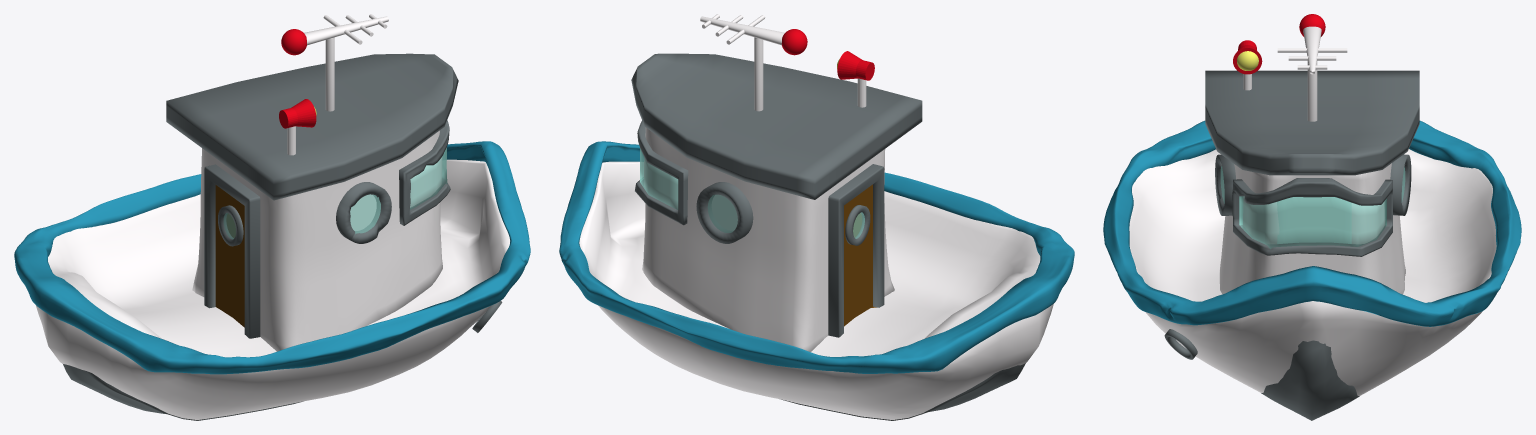
Rendered from Boat.fbx.
3 views of the same model, side by side, from view 1: azimuth 30°, elevation 25°; view 2: azimuth 150°, elevation 25°; view 3: azimuth 270°, elevation 25° (orthographic).
Visible parts, largest first — view 1: Cube, Plane.001, Cube.001, Cube.002, Cube.004, Cube.003, Plane.002, Circle.001, Cube.005, Plane, Circle.004, Cylinder.006 (+4 smaller); view 2: Cube, Plane.001, Cube.001, Cube.002, Cube.004, Cube.003, Circle.006, Plane.002, Cube.005, Plane, Circle.005, Cylinder.006 (+4 smaller); view 3: Cube, Cube.002, Plane.001, Cube.001, Plane, Plane.002, Cube.005, Circle.006, Circle.001, Cylinder.001, Cylinder, Circle.003 (+1 smaller).
Boxes of the visible parts, x1,y1,x2,y2 form: Cube: (36, 159, 509, 419); Plane.001: (166, 53, 458, 200); Cube.001: (192, 130, 442, 351); Cube.002: (14, 141, 530, 374); Cube.004: (204, 164, 260, 338); Cube.003: (215, 185, 244, 327); Plane.002: (399, 120, 450, 225); Circle.001: (336, 182, 391, 243); Cube.005: (63, 364, 303, 420); Plane: (410, 147, 447, 209); Circle.004: (350, 194, 380, 233); Cylinder.006: (279, 99, 316, 128); Cube: (579, 161, 1053, 419); Plane.001: (631, 53, 922, 199); Cube.001: (642, 127, 894, 351); Cube.002: (559, 141, 1074, 373); Cube.004: (828, 164, 884, 337); Cube.003: (844, 184, 876, 326); Circle.006: (696, 182, 753, 243); Plane.002: (635, 120, 688, 225); Cube.005: (781, 363, 1025, 420); Plane: (640, 148, 678, 209); Circle.005: (707, 194, 737, 232); Cylinder.006: (837, 51, 874, 80); Cube: (1129, 149, 1496, 395); Cube.002: (1103, 120, 1521, 326); Plane.001: (1205, 70, 1419, 175); Cube.001: (1219, 163, 1405, 294); Plane: (1239, 196, 1386, 248); Plane.002: (1232, 178, 1392, 256); Cube.005: (1261, 340, 1359, 420); Circle.006: (1390, 154, 1411, 215); Circle.001: (1215, 154, 1236, 215); Cylinder.001: (1303, 26, 1321, 74); Cylinder: (1307, 61, 1317, 121); Circle.003: (1164, 329, 1197, 359).
Bounding box in the file's own units: 1480 × 1116 × 1157.
